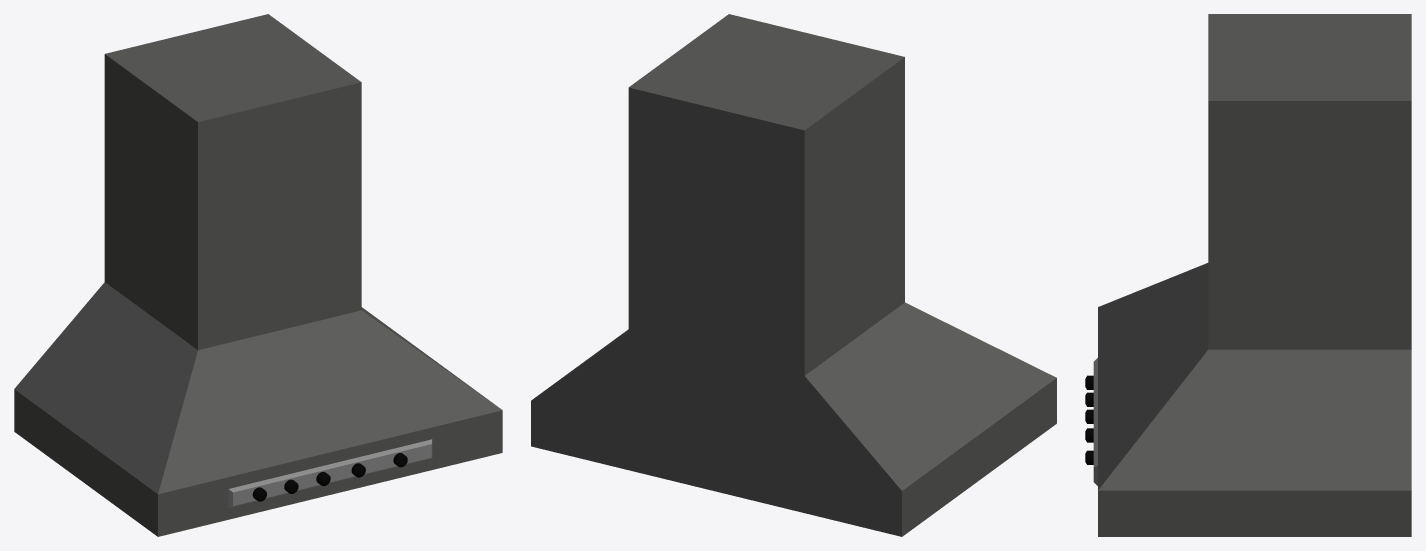
Rendered from Extractorfan.fbx.
3 views of the same model, side by side, from view 1: azimuth 30°, elevation 25°; view 2: azimuth 150°, elevation 25°; view 3: azimuth 270°, elevation 25° (orthographic). The views are drawn at different scales.
Visible parts, largest first — view 1: Cube.241; view 2: Cube.241; view 3: Cube.241.
Boxes of the visible parts, bbox=[...] form: Cube.241: bbox=[14, 14, 502, 536]; Cube.241: bbox=[531, 14, 1056, 536]; Cube.241: bbox=[1085, 14, 1411, 536].
Bounding box in the file's own units: 93.98 × 92.66 × 70.68.
